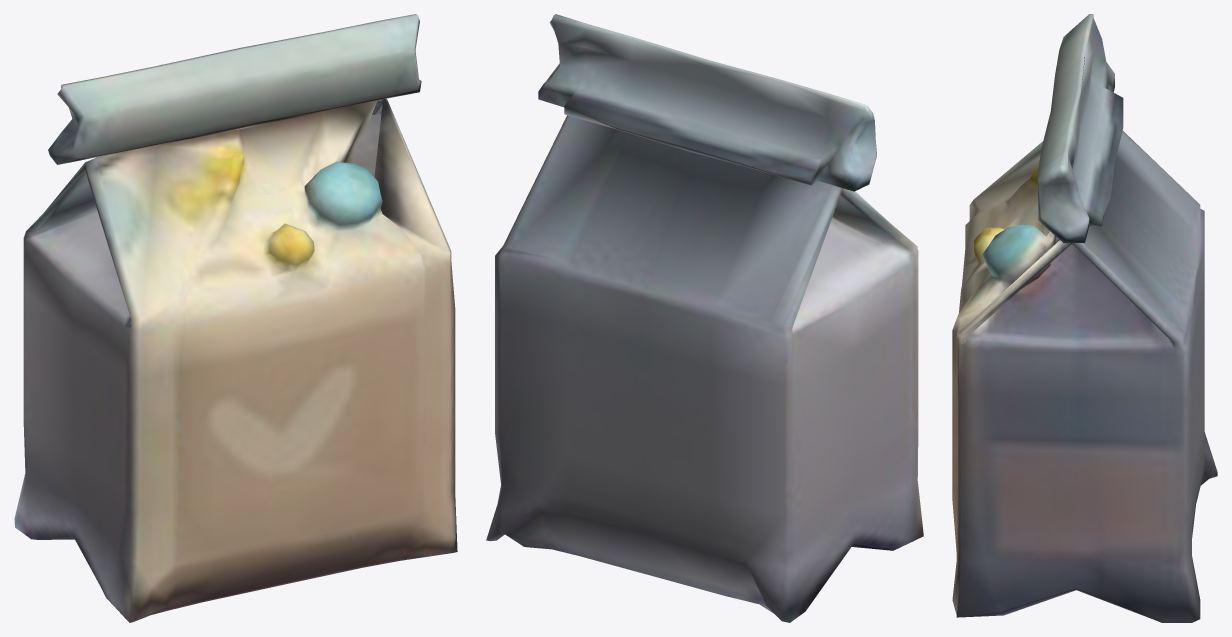
The model's file is flour.glb.
3 views of the same model, side by side, from view 1: azimuth 30°, elevation 25°; view 2: azimuth 150°, elevation 25°; view 3: azimuth 270°, elevation 25° (orthographic). The views are drawn at different scales.
Visible parts, largest first — view 1: Flour; view 2: Flour; view 3: Flour.
Boxes of the visible parts, x1=… form: Flour: x1=14, y1=14, x2=457, y2=622; Flour: x1=486, y1=14, x2=923, y2=622; Flour: x1=952, y1=14, x2=1217, y2=622.
Bounding box in the file's own units: 1.38 × 1.86 × 0.9589.
1 material, 1 textured.
